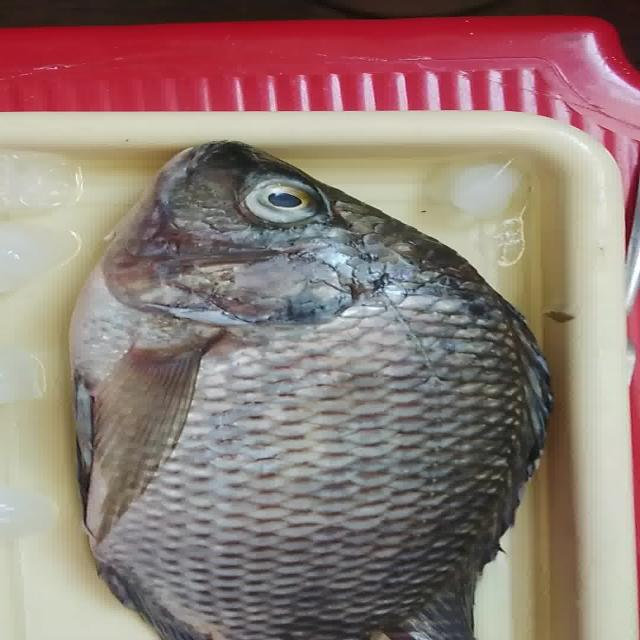Fresh: (68, 257, 572, 640), (223, 174, 344, 247)
